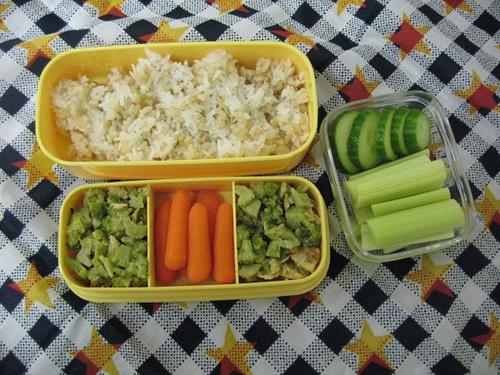carrot: (186, 204, 214, 284), (164, 188, 190, 270), (213, 202, 236, 284), (194, 190, 220, 258), (155, 200, 175, 284), (178, 231, 189, 276)
celery: (366, 199, 465, 247), (355, 158, 446, 209), (343, 154, 431, 190), (348, 148, 431, 180), (361, 223, 454, 251), (372, 186, 450, 216), (354, 206, 374, 224), (383, 244, 411, 254)
cucumber: (347, 108, 386, 170), (328, 110, 364, 174), (375, 105, 399, 162), (403, 110, 430, 154), (390, 106, 412, 158)
